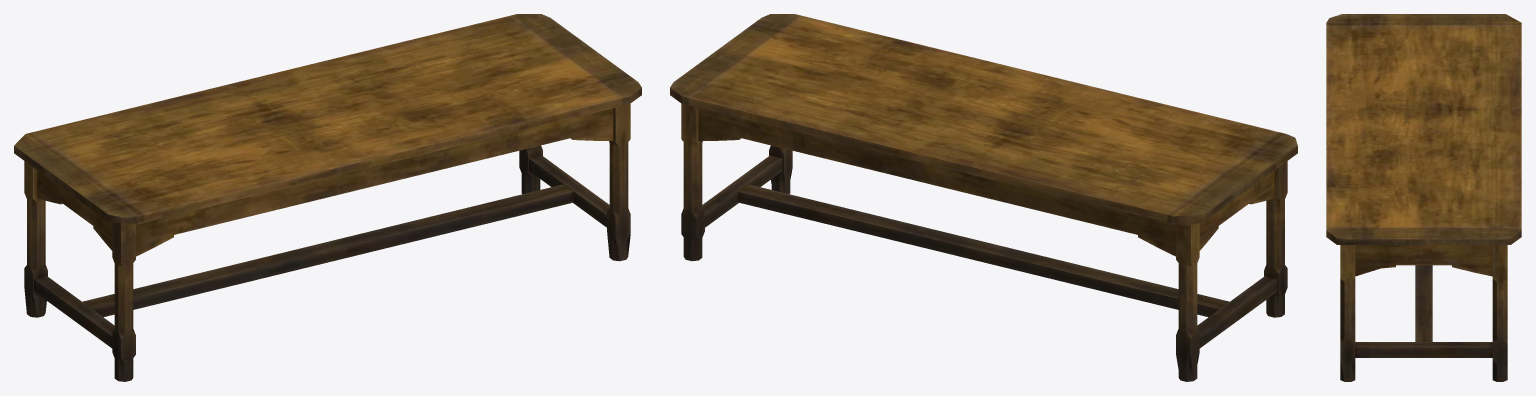
The model's file is WoodenTable_01.glb.
3 renders of one model, left to right at view 1: azimuth 30°, elevation 25°; view 2: azimuth 150°, elevation 25°; view 3: azimuth 270°, elevation 25°, orthographic. The views are drawn at different scales.
Parts seen in each view (by area): view 1: WoodenTable_01; view 2: WoodenTable_01; view 3: WoodenTable_01.
Part boxes in pixels (<box>): WoodenTable_01: <box>14,14,641,381</box>; WoodenTable_01: <box>670,14,1297,381</box>; WoodenTable_01: <box>1326,14,1521,381</box>.
Size of the model in its own units: 1.8 by 0.5488 by 0.6571.
1 material, 1 textured.
